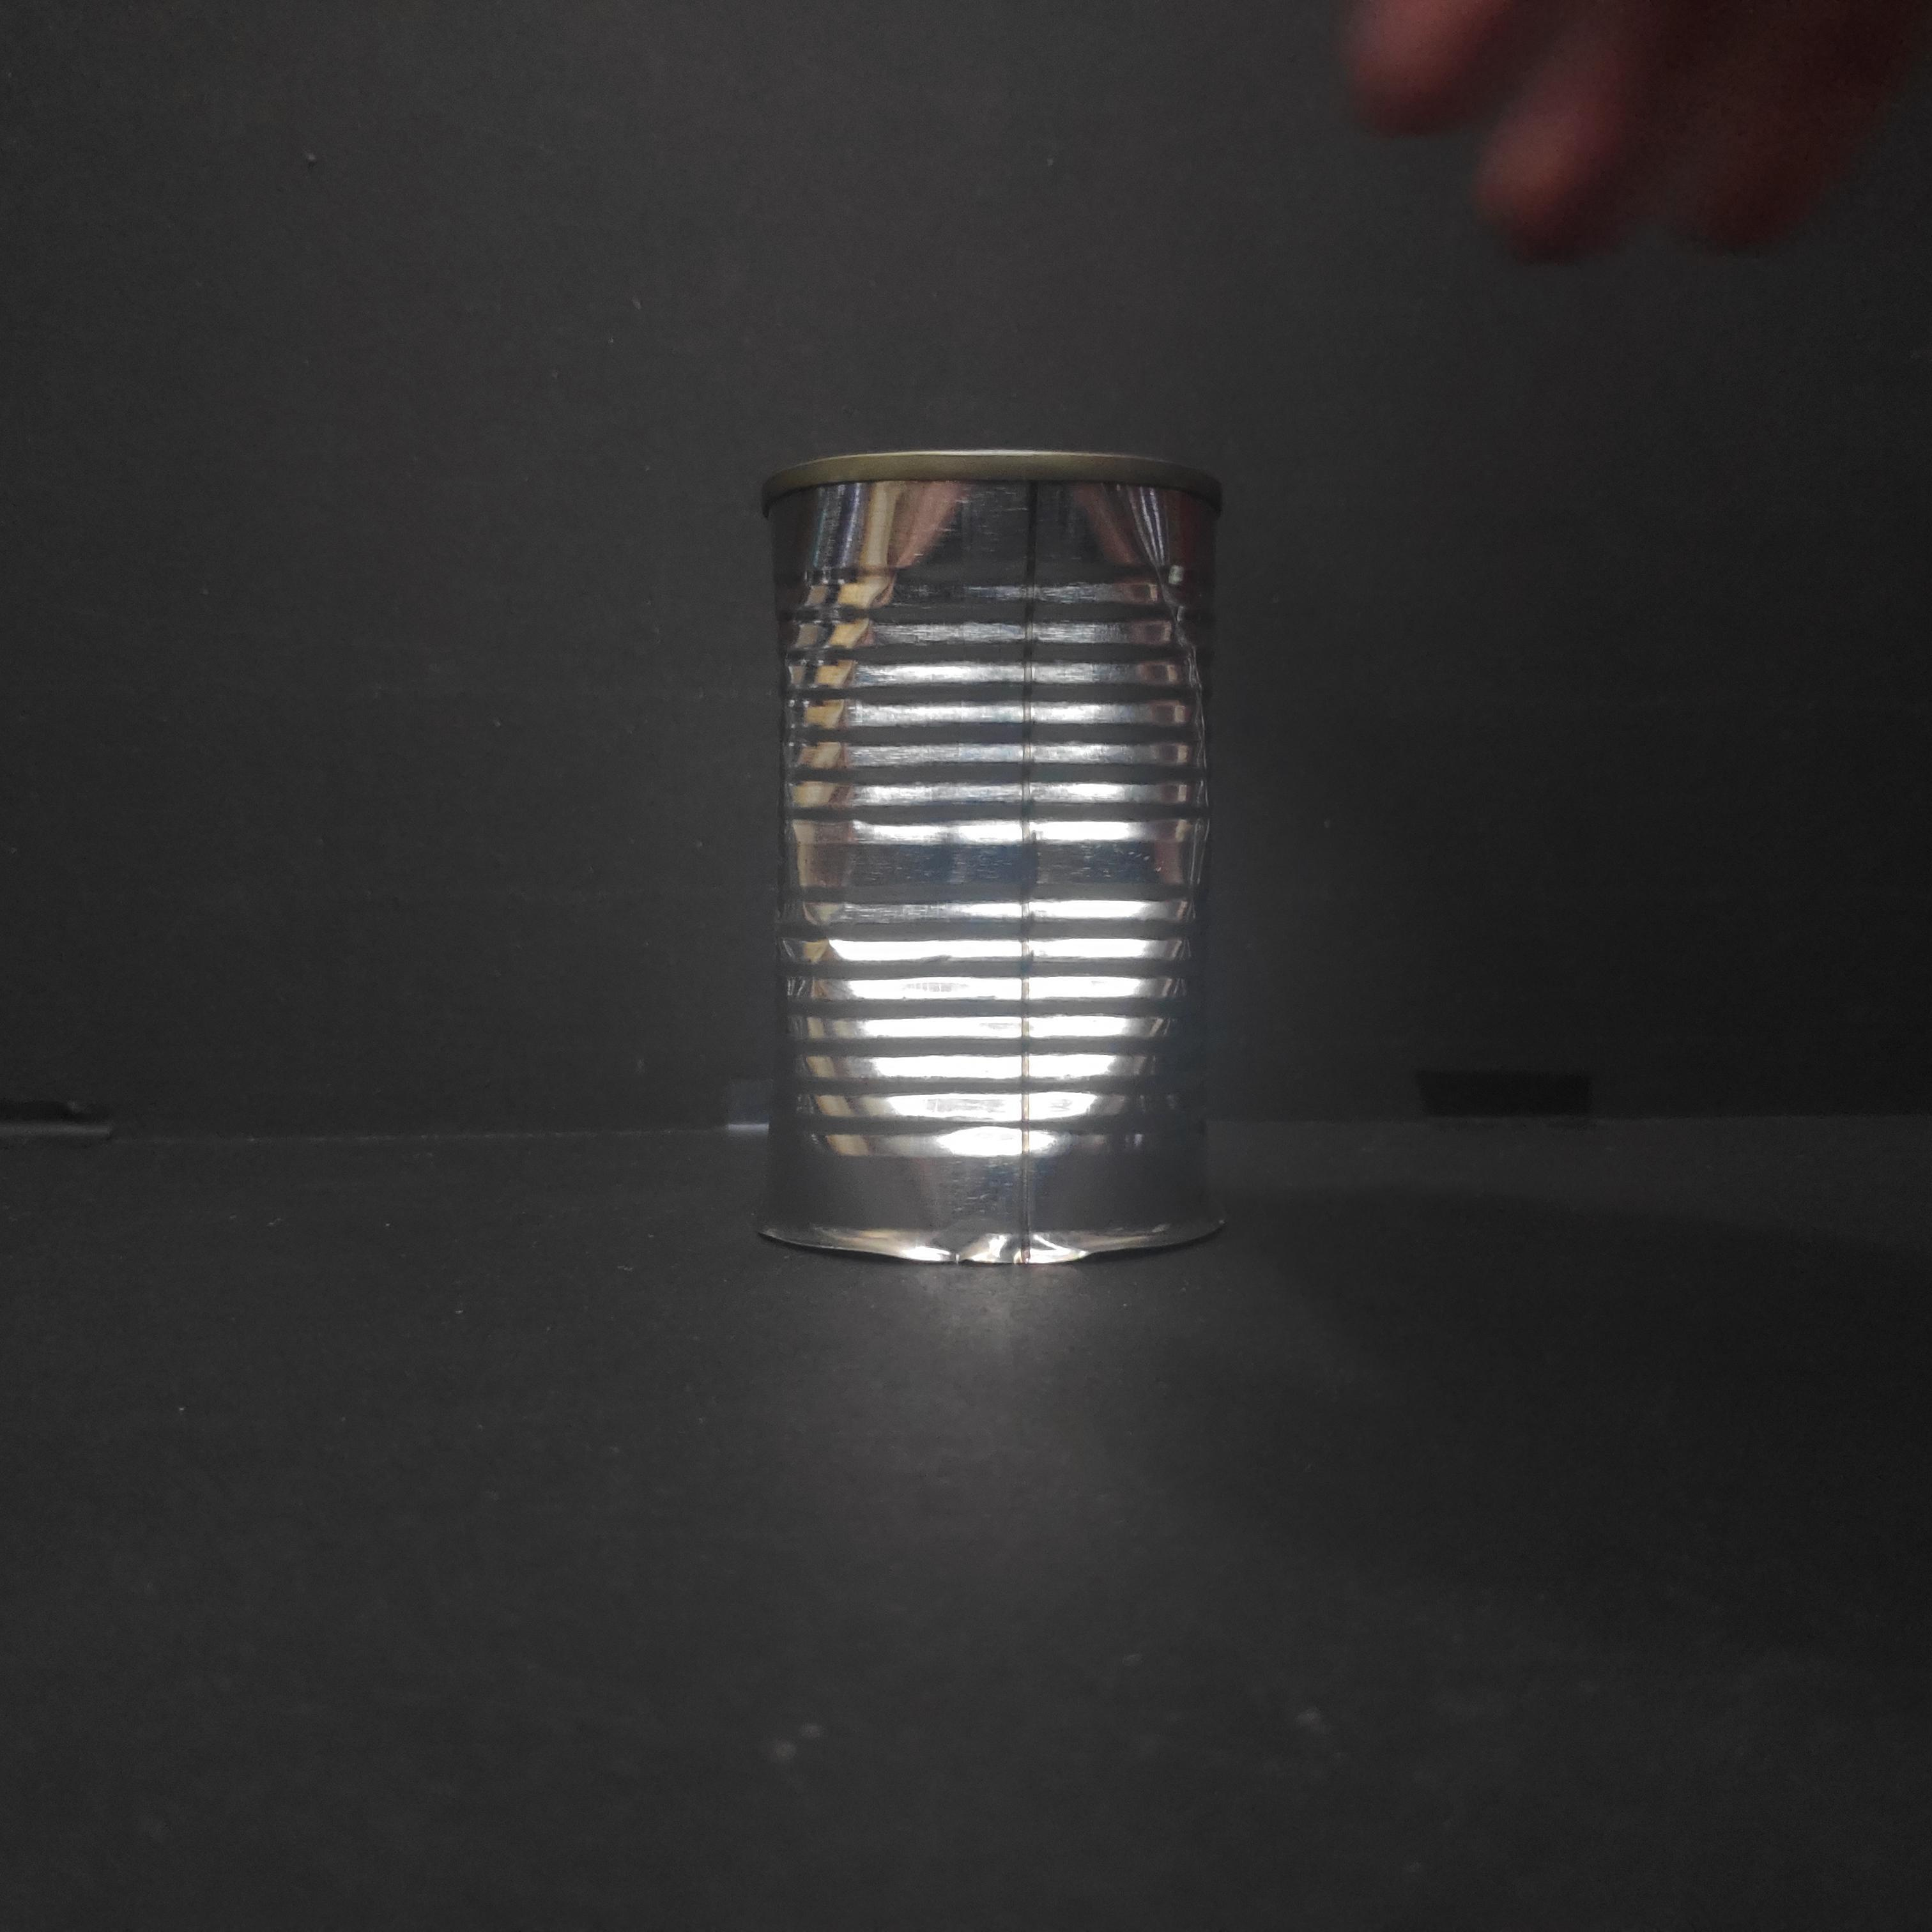Dented: (725, 412, 1249, 1304)
